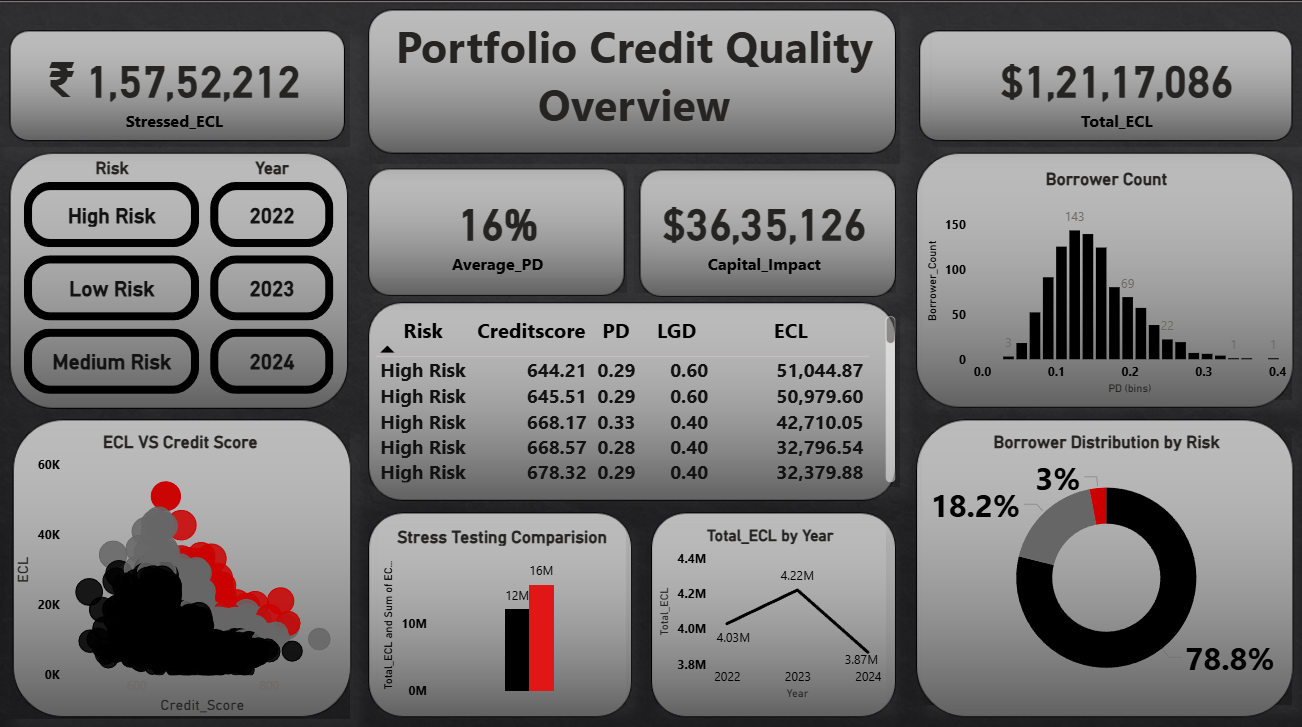

What the dashboard file says about the page in this screenshot:
{"tool":"powerbi","page":{"name":"Page 2","canvas":[1280,720],"ordinal":0},"visuals":[{"type":"donutChart","title":"Borrower Distribution by Risk","fields":{"Category":["credit_portfolio.PD_Bucket"],"Y":["credit_portfolio.Borrower_Count"]},"box":[905.5,423.3,363.2,268.7],"z":0},{"type":"advancedSlicerVisual","fields":{"Values":["credit_portfolio.Year"]},"box":[202.5,154.6,131.3,238],"z":1000},{"type":"advancedSlicerVisual","title":"Risk","fields":{"Values":["credit_portfolio.PD_Bucket"]},"box":[19.6,154.6,182.8,238],"z":2000},{"type":"scatterChart","title":"ECL VS Credit Score","fields":{"X":["credit_portfolio.Credit_Score"],"Y":["credit_portfolio.ECL"],"Series":["credit_portfolio.PD_Bucket"],"Size":["Sum(credit_portfolio.Loan_Amount)"]},"box":[11.1,423,333.9,282.4],"z":3000},{"type":"columnChart","title":"Borrower Count ","fields":{"Category":["credit_portfolio.PD (bins)"],"Y":["credit_portfolio.Borrower_Count"]},"box":[905.5,165.6,363.2,227],"z":4000},{"type":"lineChart","fields":{"Category":["credit_portfolio.Year"],"Y":["credit_portfolio.Total_ECL"]},"box":[642.9,516.6,228.2,175.5],"z":5000},{"type":"clusteredColumnChart","title":"Stress Testing Comparision","fields":{"Y":["credit_portfolio.Total_ECL","Sum(credit_portfolio.ECL_Stress)"]},"box":[371.8,516.6,244.2,175.5],"z":6000},{"type":"card","fields":{"Values":["credit_portfolio.Average_PD"]},"box":[363.1,165.6,253.2,122.4],"z":7000},{"type":"card","fields":{"Values":["credit_portfolio.Total_ECL"]},"box":[915.3,29.4,364.4,114.1],"z":8000},{"type":"card","fields":{"Values":["credit_portfolio.Capital_Impact"]},"box":[621.9,165.6,258.8,122.4],"z":9000},{"type":"textbox","box":[363.1,11.1,521,150],"z":10000},{"type":"card","fields":{"Values":["credit_portfolio.Stressed_ECL"]},"box":[0,29.4,344.8,114.1],"z":11000},{"type":"tableEx","fields":{"Values":["credit_portfolio.PD_Bucket","credit_portfolio.Credit_Score","Sum(credit_portfolio.PD)","Sum(credit_portfolio.LGD)","Sum(credit_portfolio.ECL)"]},"box":[363.2,305.5,521.5,173],"z":12000}]}

Visuals, with their boxes in screenshot pixels (x1, y1, x2, y2), scaled from the page's 1280x720 canvas onto the 1302x727 screenshot:
"Borrower Distribution by Risk" donutChart: {"left": 921, "top": 427, "right": 1291, "bottom": 699}
advancedSlicerVisual - credit_portfolio.Year: {"left": 206, "top": 156, "right": 340, "bottom": 396}
"Risk" advancedSlicerVisual: {"left": 20, "top": 156, "right": 206, "bottom": 396}
"ECL VS Credit Score" scatterChart: {"left": 11, "top": 427, "right": 351, "bottom": 712}
"Borrower Count " columnChart: {"left": 921, "top": 167, "right": 1291, "bottom": 396}
lineChart - credit_portfolio.Year x credit_portfolio.Total_ECL: {"left": 654, "top": 522, "right": 886, "bottom": 699}
"Stress Testing Comparision" clusteredColumnChart: {"left": 378, "top": 522, "right": 627, "bottom": 699}
card - credit_portfolio.Average_PD: {"left": 369, "top": 167, "right": 627, "bottom": 291}
card - credit_portfolio.Total_ECL: {"left": 931, "top": 30, "right": 1301, "bottom": 145}
card - credit_portfolio.Capital_Impact: {"left": 633, "top": 167, "right": 896, "bottom": 291}
textbox: {"left": 369, "top": 11, "right": 899, "bottom": 163}
card - credit_portfolio.Stressed_ECL: {"left": 0, "top": 30, "right": 351, "bottom": 145}
tableEx - credit_portfolio.PD_Bucket x credit_portfolio.Credit_Score: {"left": 369, "top": 308, "right": 900, "bottom": 483}
